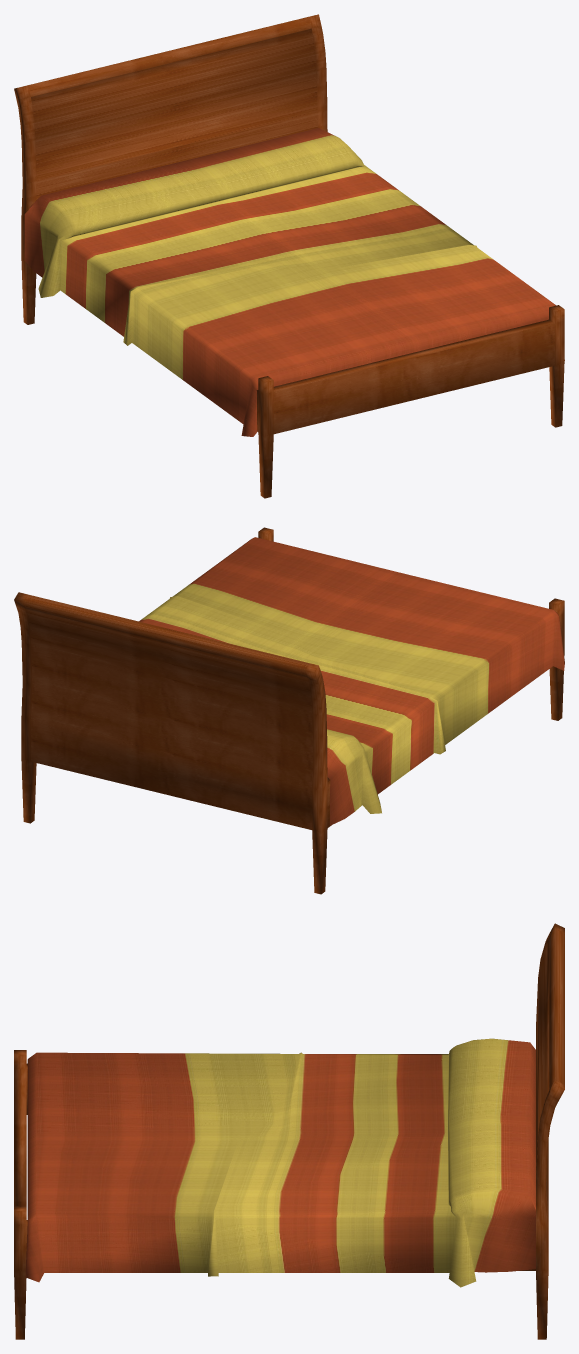
File: bed1.glb
The picture shows the model from 3 angles, top to bottom: view 1: azimuth 30°, elevation 25°; view 2: azimuth 150°, elevation 25°; view 3: azimuth 270°, elevation 25°; orthographic projection. The views are drawn at different scales.
Parts seen in each view (by area): view 1: Colcha_Plane.002, bed_Plane; view 2: bed_Plane, Colcha_Plane.002; view 3: Colcha_Plane.002, bed_Plane.
Boxes of the visible parts, <box> form: Colcha_Plane.002: <box>24,128,564,436</box>; bed_Plane: <box>14,14,564,498</box>; bed_Plane: <box>14,527,564,894</box>; Colcha_Plane.002: <box>139,537,564,825</box>; Colcha_Plane.002: <box>25,1038,535,1287</box>; bed_Plane: <box>14,923,564,1339</box>.
Bounding box in the file's own units: 1.7 × 1.11 × 2.16.
Materials: 2 (2 with a texture image).
